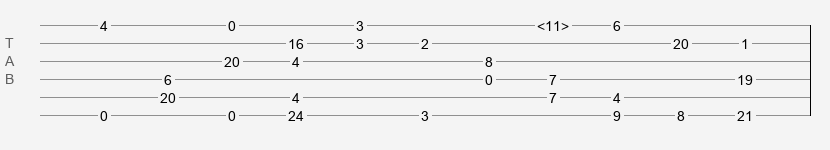0: (100, 108, 108, 118), (228, 18, 236, 28), (228, 108, 236, 118), (485, 72, 493, 82)
1: (741, 36, 749, 46)
16: (288, 36, 304, 46)
19: (737, 72, 753, 82)
2: (421, 36, 429, 46)
20: (160, 90, 176, 100), (224, 54, 240, 64), (673, 36, 689, 46)
21: (737, 108, 753, 118)
24: (288, 108, 304, 118)
3: (356, 36, 364, 46), (356, 18, 364, 28), (421, 108, 429, 118)
4: (100, 18, 108, 28), (292, 90, 300, 100), (292, 54, 300, 64), (613, 90, 621, 100)
6: (164, 72, 172, 82), (613, 18, 621, 28)
7: (549, 72, 557, 82), (549, 90, 557, 100)
8: (485, 54, 493, 64), (677, 108, 685, 118)
9: (613, 108, 621, 118)
harmonic: (537, 18, 569, 28)
